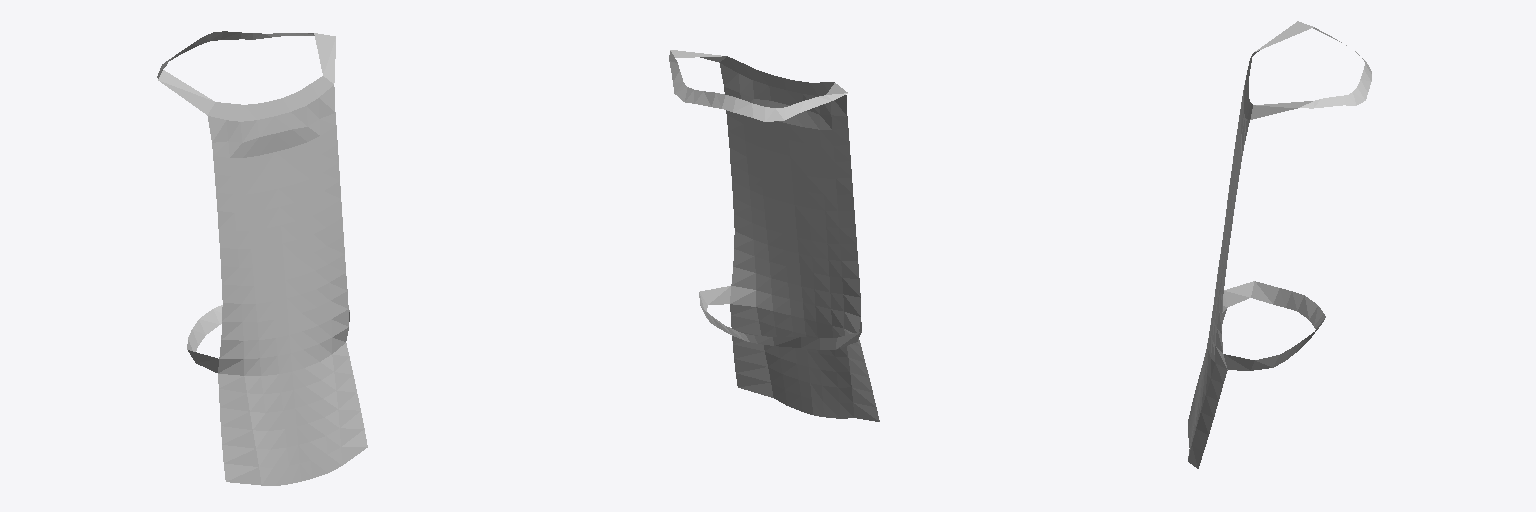
The model's file is apron_2_dense.obj.
The picture shows the model from 3 angles: view 1: azimuth 30°, elevation 25°; view 2: azimuth 150°, elevation 25°; view 3: azimuth 270°, elevation 25°; orthographic projection.
Visible parts, largest first — view 1: apron_2; view 2: apron_2; view 3: apron_2.
Part boxes in pixels (x1,y1,x2,y2): apron_2: (157, 31, 367, 485); apron_2: (669, 50, 879, 421); apron_2: (1188, 21, 1371, 468).
Bounding box in the file's own units: 0.7548 × 1.55 × 0.6748.